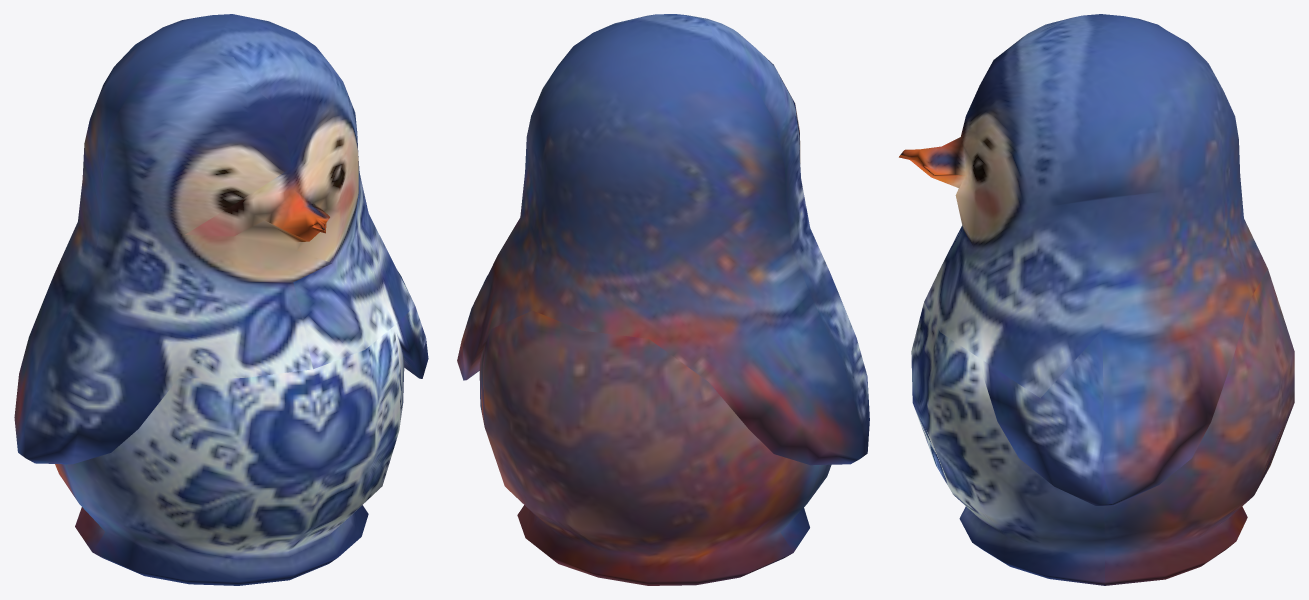
The model's file is penguin-06-12-blue-gzhel-penguin-doll.gltf.
3 renders of one model, left to right at view 1: azimuth 30°, elevation 25°; view 2: azimuth 150°, elevation 25°; view 3: azimuth 270°, elevation 25°, orthographic.
Parts seen in each view (by area): view 1: penguin-06-12-blue-gzhel-penguin-doll; view 2: penguin-06-12-blue-gzhel-penguin-doll; view 3: penguin-06-12-blue-gzhel-penguin-doll.
Boxes of the visible parts, <box> form: penguin-06-12-blue-gzhel-penguin-doll: <box>14,14,428,585</box>; penguin-06-12-blue-gzhel-penguin-doll: <box>457,14,869,585</box>; penguin-06-12-blue-gzhel-penguin-doll: <box>899,14,1294,585</box>.
Size of the model in its own units: 0.2 by 0.2467 by 0.1721.
1 material, 1 textured.
